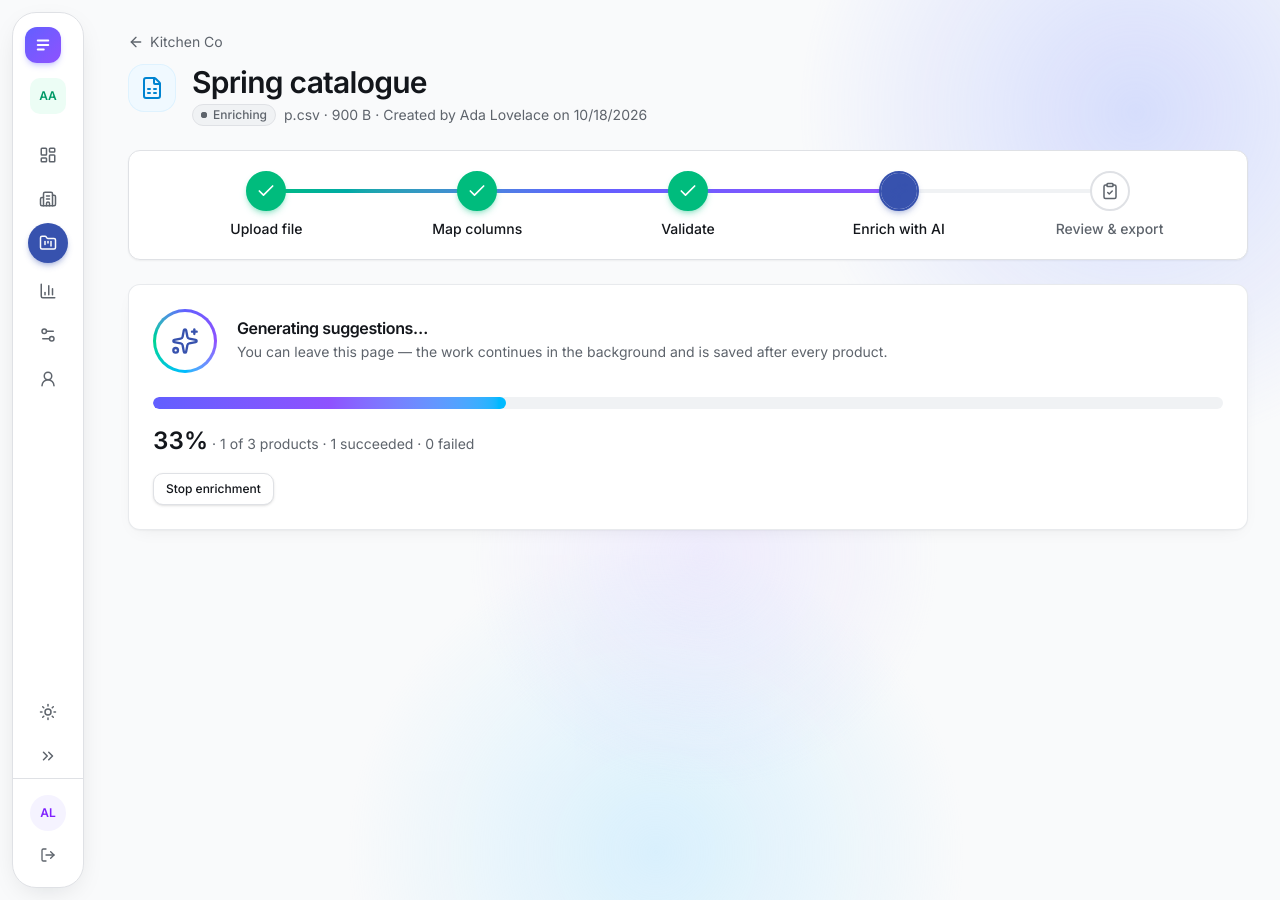
enrichment progress › shows progress and can stop the run
Expected: the heading "Generating suggestions…" is shown, [237,318,428,338]
Expected: the text "33%" is shown, [153,426,208,455]
Click the button "Stop enrichment" at (213, 489), box [153,473,274,505]
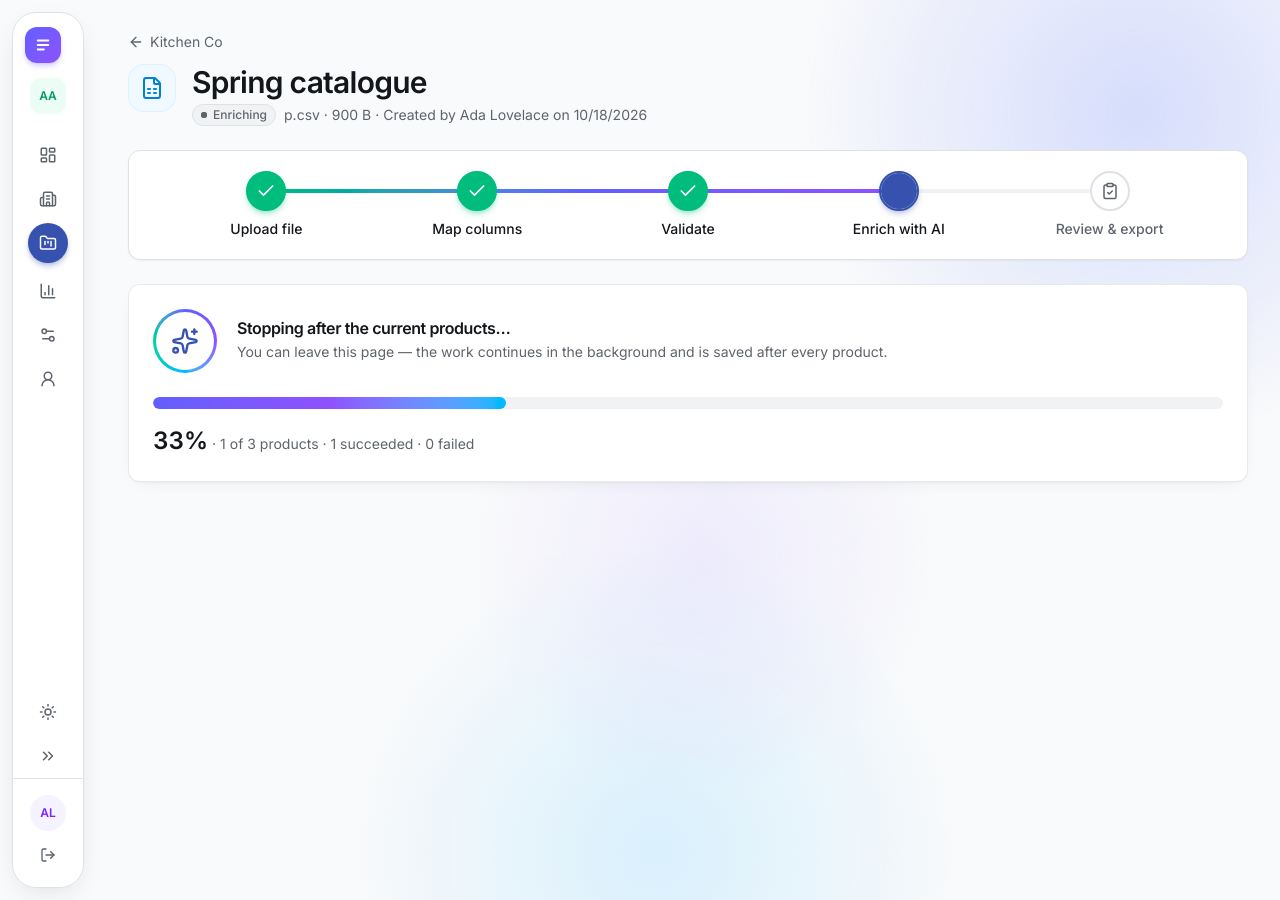
Expected: the heading "Stopping after the current products…" is shown, [237,318,510,338]
